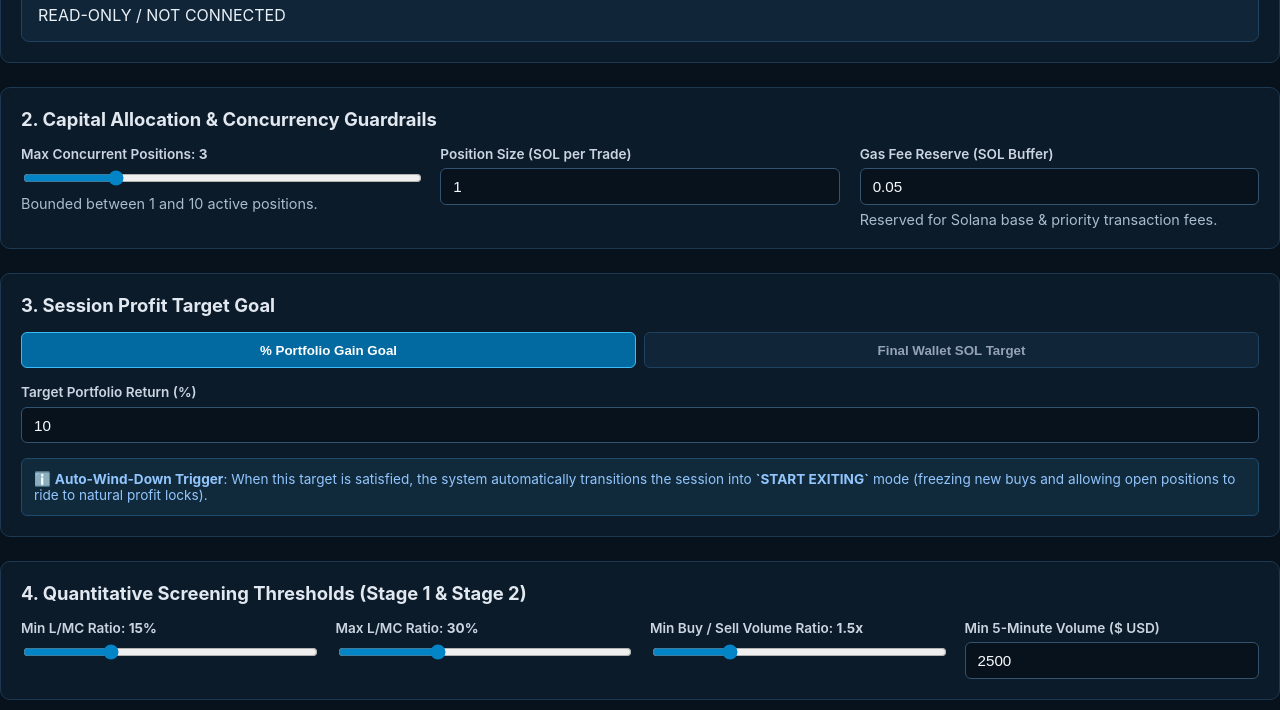
it: SettingsView › toggles goal mode between % gain and final SOL target
(page scrolled)
Click the button "Final Wallet SOL Target" at (952,350), box [644,332,1259,368]
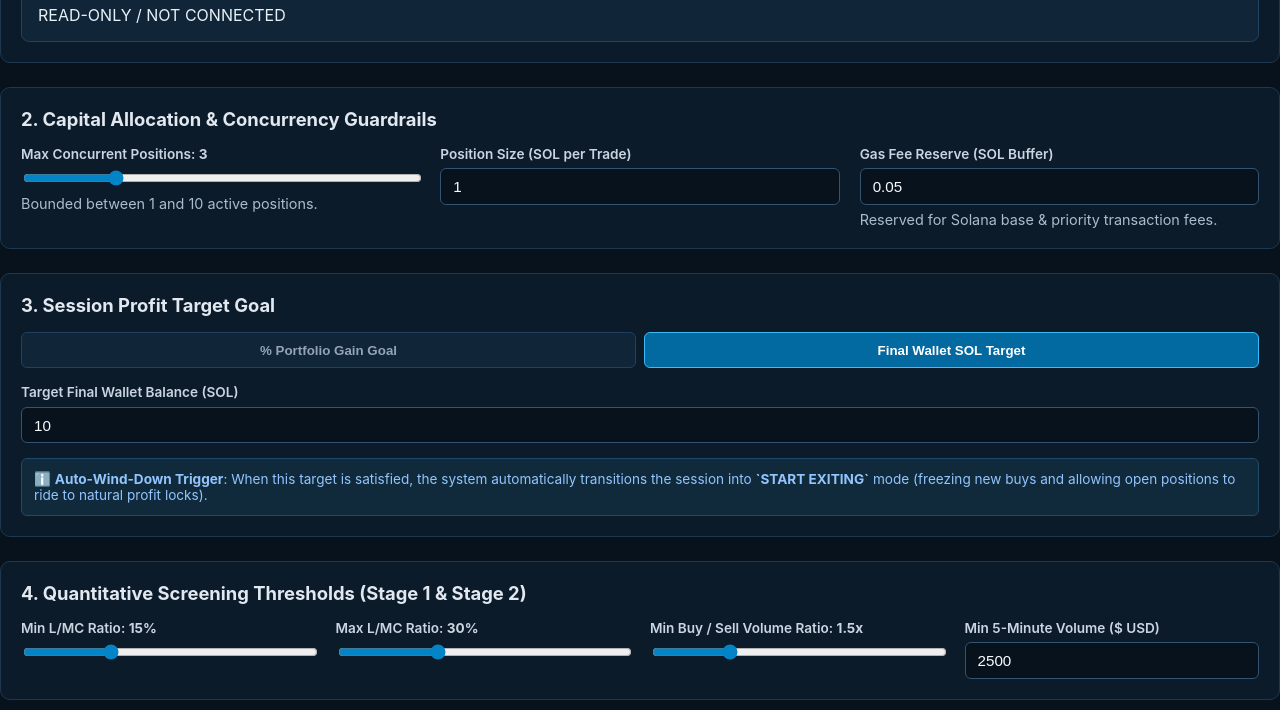
expect the text "Target Final Wallet Balance (SOL)" is shown: met, box [21,384,238,400]
Click the button "% Portfolio Gain Goal" at (328,350), box [21,332,636,368]
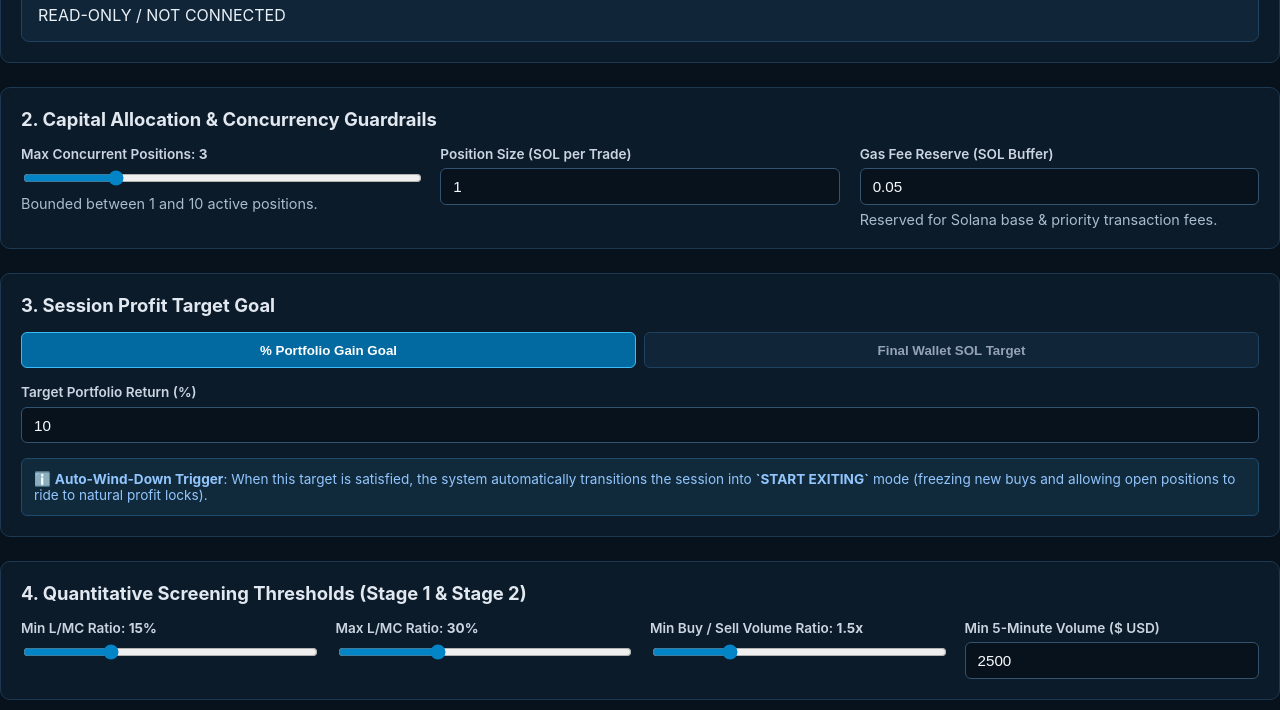
expect the text "Target Portfolio Return (%)" is shown: met, box [21,384,197,400]
